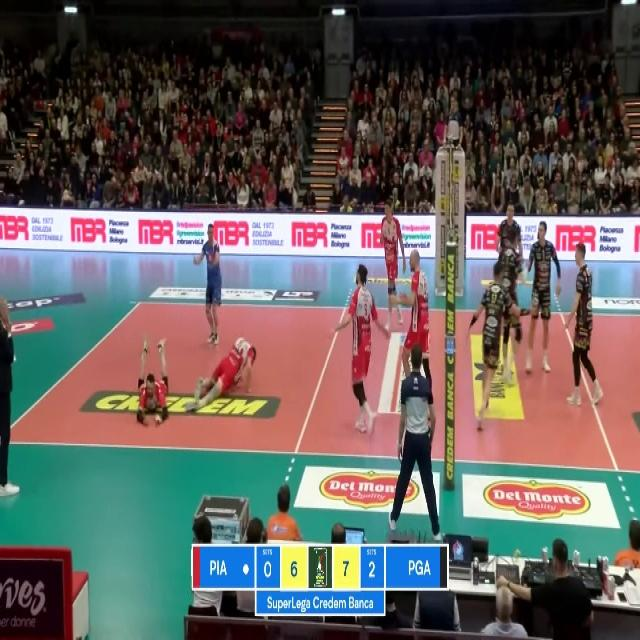volleyball court: (3, 300, 638, 470)
